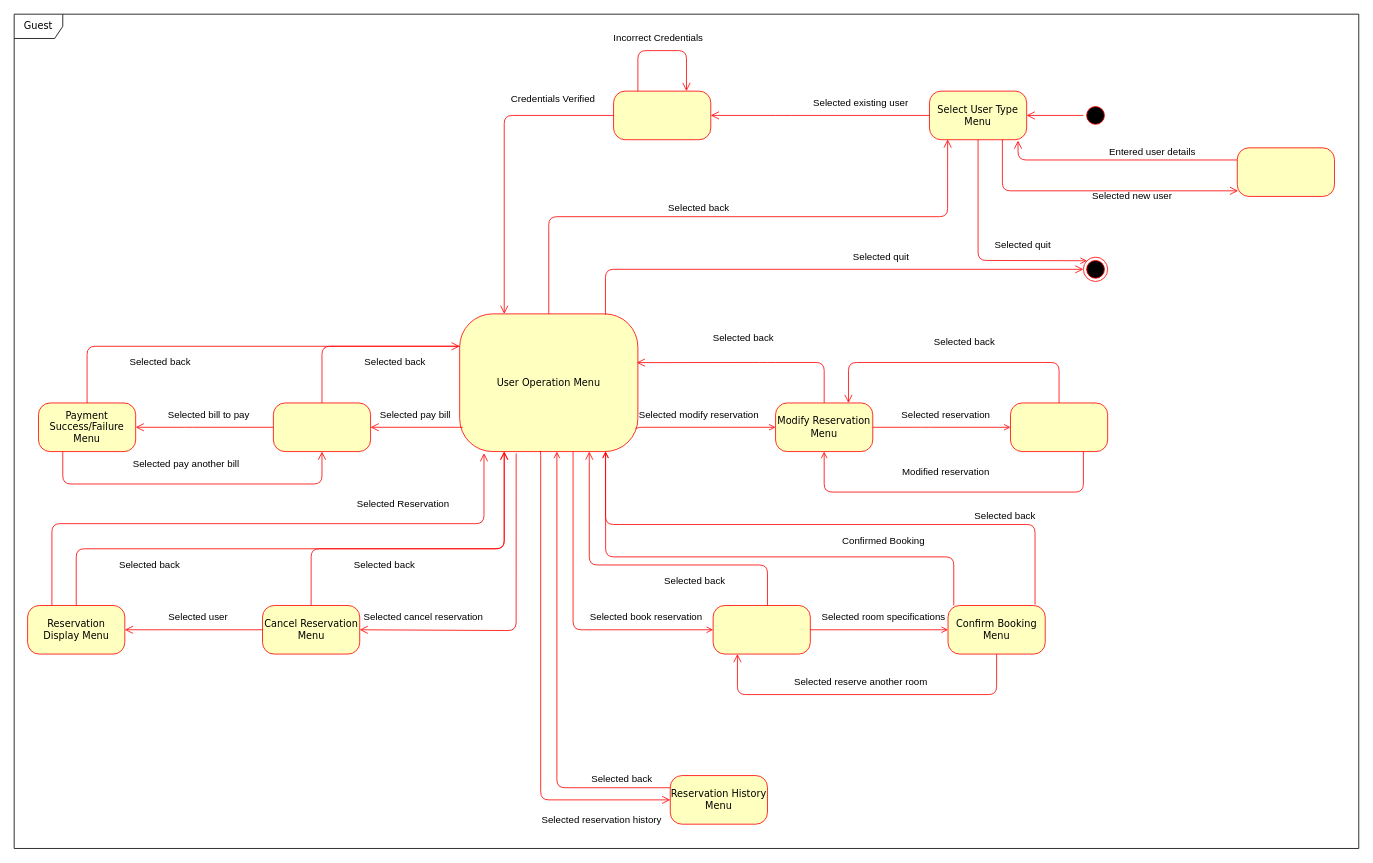
Some shapes in this 1373 by 863 pixel diagram are drawn without their labels. Here are the shapes that lost their labels. From the top down, the box of each, then its label:
(613, 90, 711, 140): Login Menu
(1236, 147, 1334, 196): Create User Menu
(273, 402, 371, 452): Pay Bill Menu
(1010, 402, 1108, 452): Reservation Changes Menu
(712, 605, 810, 654): Select Room Specifications Menu
